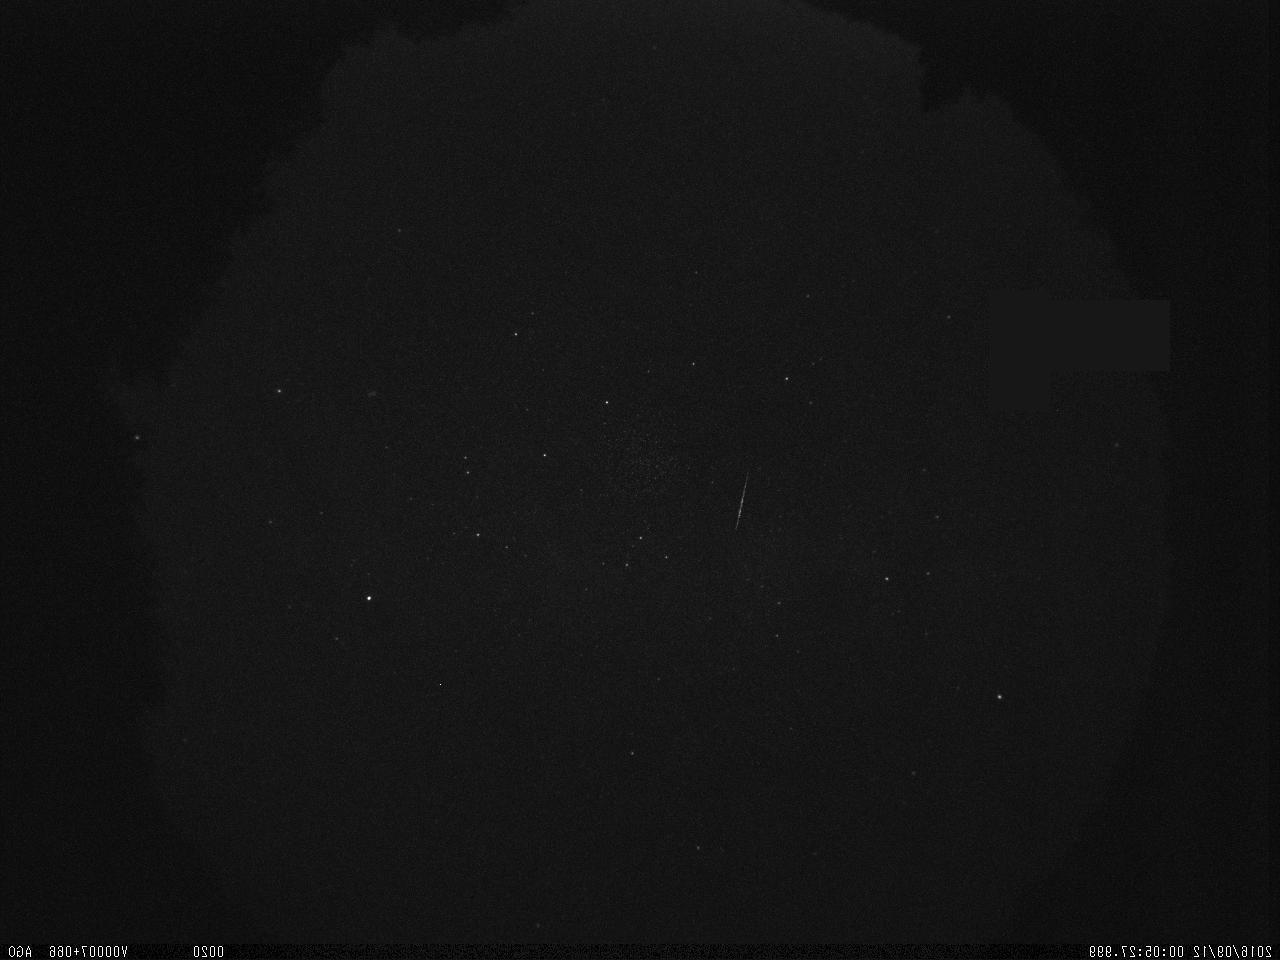meteor: (706, 462, 774, 550)
